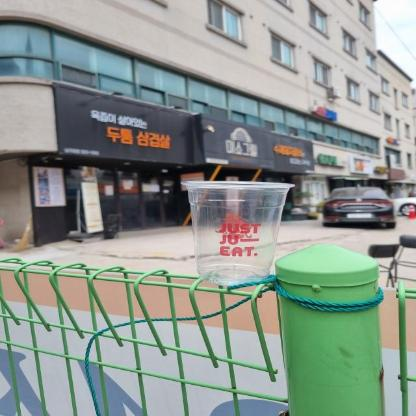Plastic Cup: (176, 176, 300, 288)
